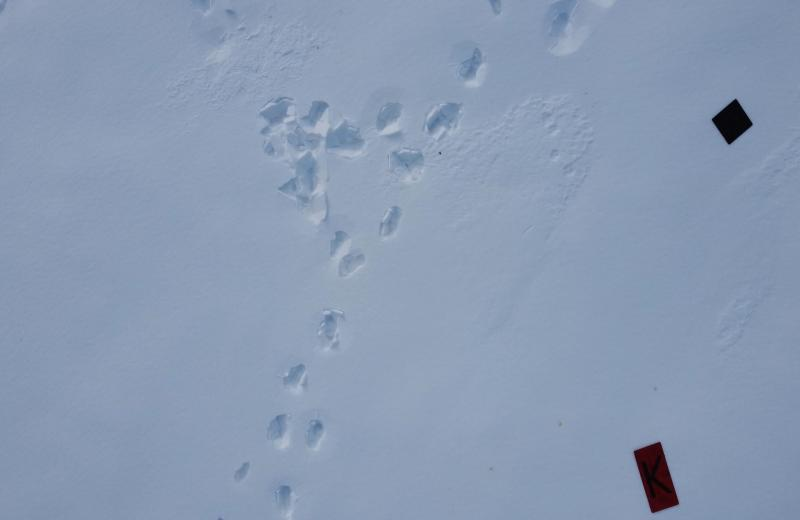Rectangle: (632, 439, 681, 514)
Square: (713, 99, 754, 146)
